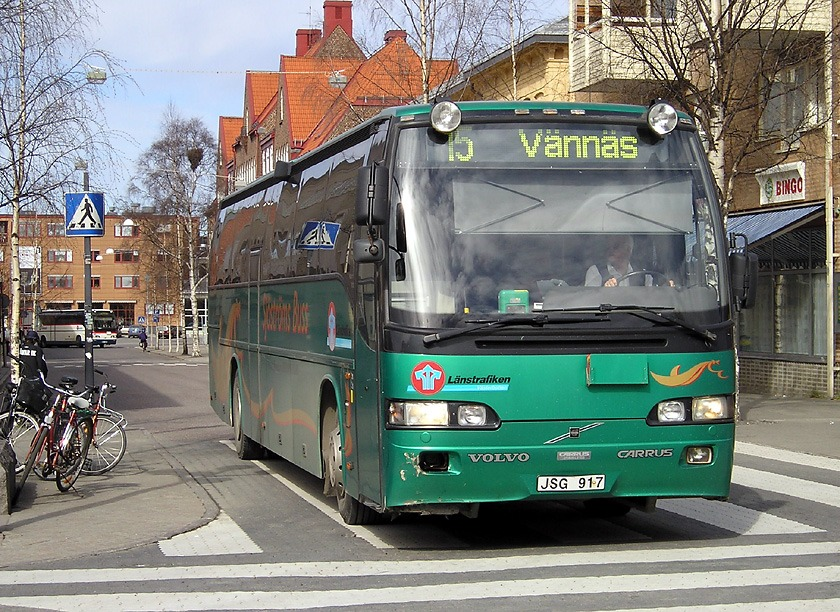bus: (204, 100, 737, 525)
